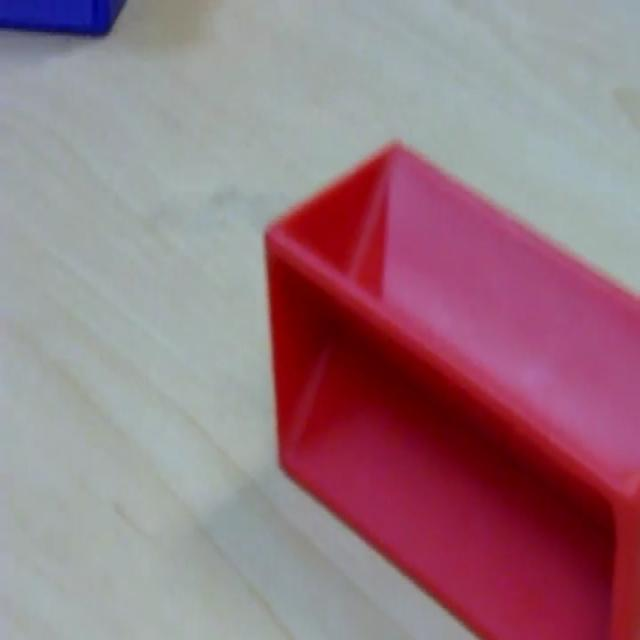red_block: (262, 136, 638, 636)
